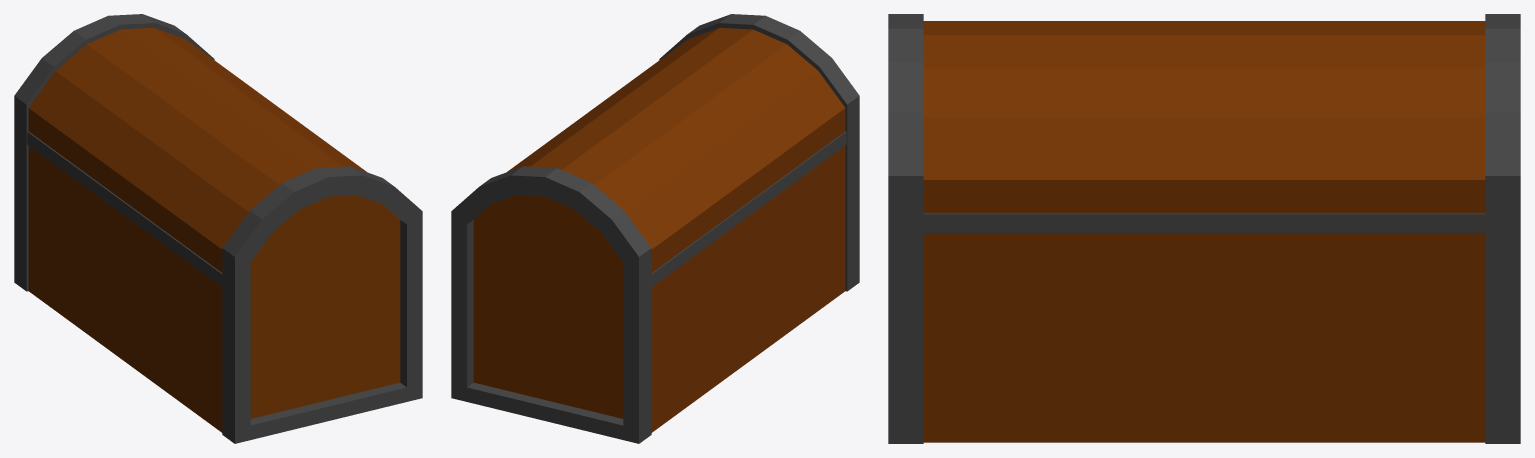
The model's file is Chest.fbx.
3 views of the same model, side by side, from view 1: azimuth 30°, elevation 25°; view 2: azimuth 150°, elevation 25°; view 3: azimuth 270°, elevation 25° (orthographic). The views are drawn at different scales.
Parts seen in each view (by area): view 1: Chest; view 2: Chest; view 3: Chest.
Boxes of the visible parts, x1=… form: Chest: x1=14, y1=14, x2=422, y2=443; Chest: x1=451, y1=14, x2=859, y2=443; Chest: x1=888, y1=14, x2=1520, y2=443.
Bounding box in the file's own units: 73.75 × 91.55 × 150.
